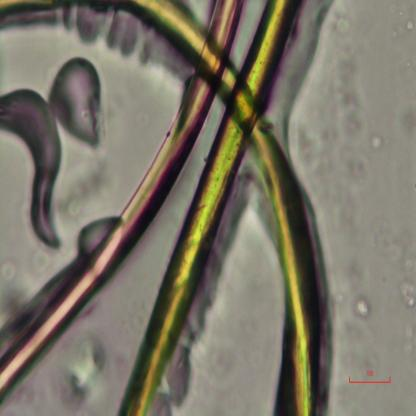Air bubble: (0, 87, 62, 256), (49, 54, 104, 152), (63, 5, 102, 47), (170, 350, 198, 406), (105, 12, 139, 56)
Background material: (330, 17, 370, 186), (52, 150, 109, 223), (330, 183, 374, 277), (59, 327, 105, 407), (0, 264, 33, 332), (393, 94, 416, 141), (399, 258, 416, 306), (353, 296, 371, 320), (369, 133, 385, 152), (389, 26, 401, 42), (404, 19, 414, 33)
Microfibre: (0, 0, 243, 402), (133, 1, 319, 415), (119, 0, 300, 414), (0, 0, 62, 16)
